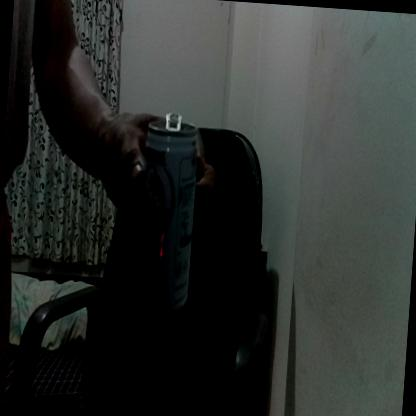alumunium_can: (134, 110, 204, 314)
